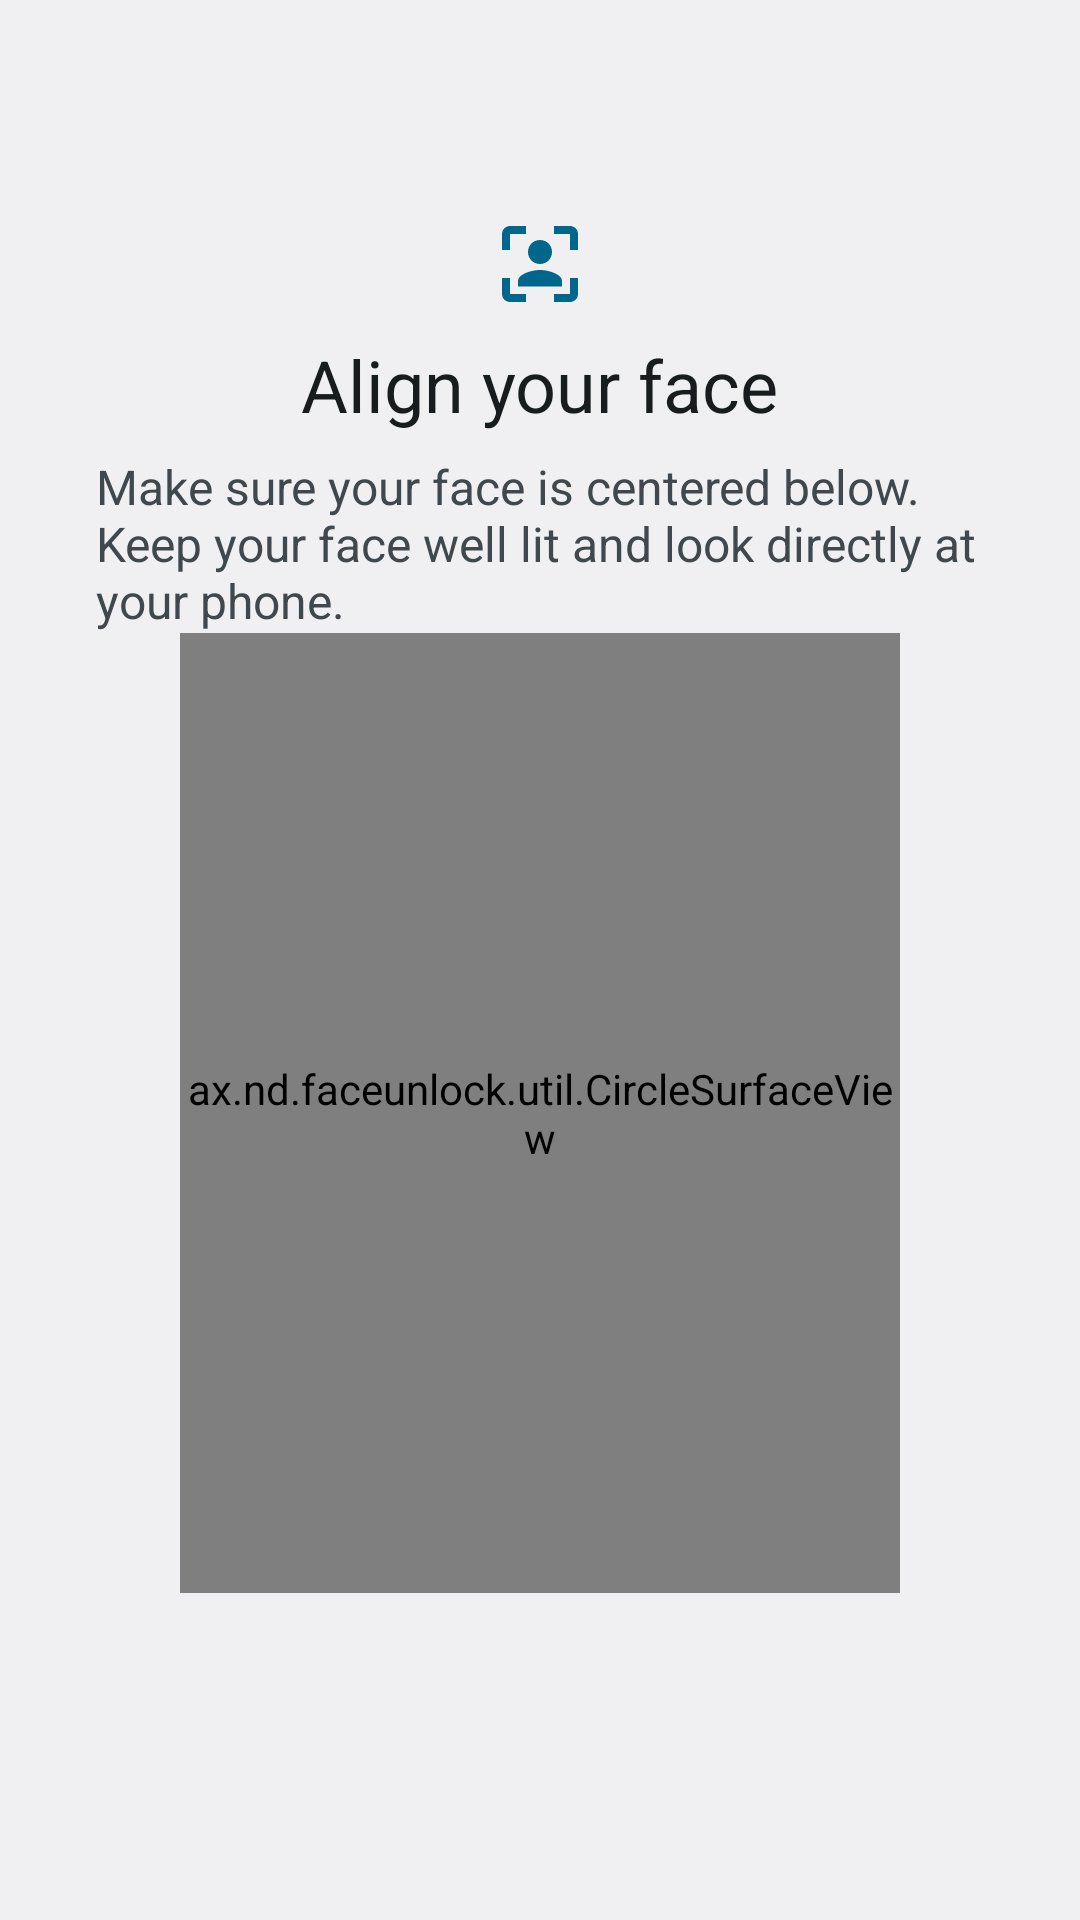

Icon bounding boxes for this 1080 x 1920 phone screenshot, format (x1, y1, x2, y2):
face auth: (502, 226, 578, 302)
